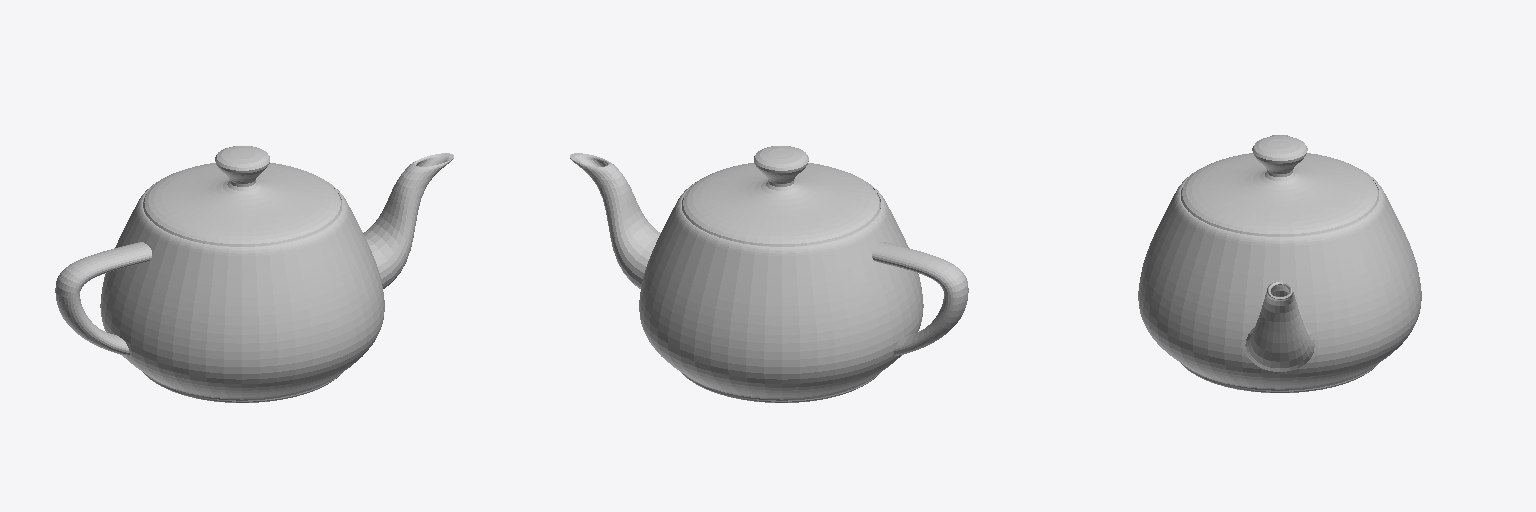
Rendered from teapot.obj.
3 renders of one model, left to right at view 1: azimuth 30°, elevation 25°; view 2: azimuth 150°, elevation 25°; view 3: azimuth 270°, elevation 25°, orthographic.
Parts seen in each view (by area): view 1: Teapot_Base; view 2: Teapot_Base; view 3: Teapot_Base.
Part boxes in pixels (left/top/right/bottom): Teapot_Base: left=55, top=146, right=453, bottom=402; Teapot_Base: left=570, top=146, right=968, bottom=402; Teapot_Base: left=1138, top=135, right=1421, bottom=392.
Size of the model in its own units: 154 by 79.01 by 95.86.